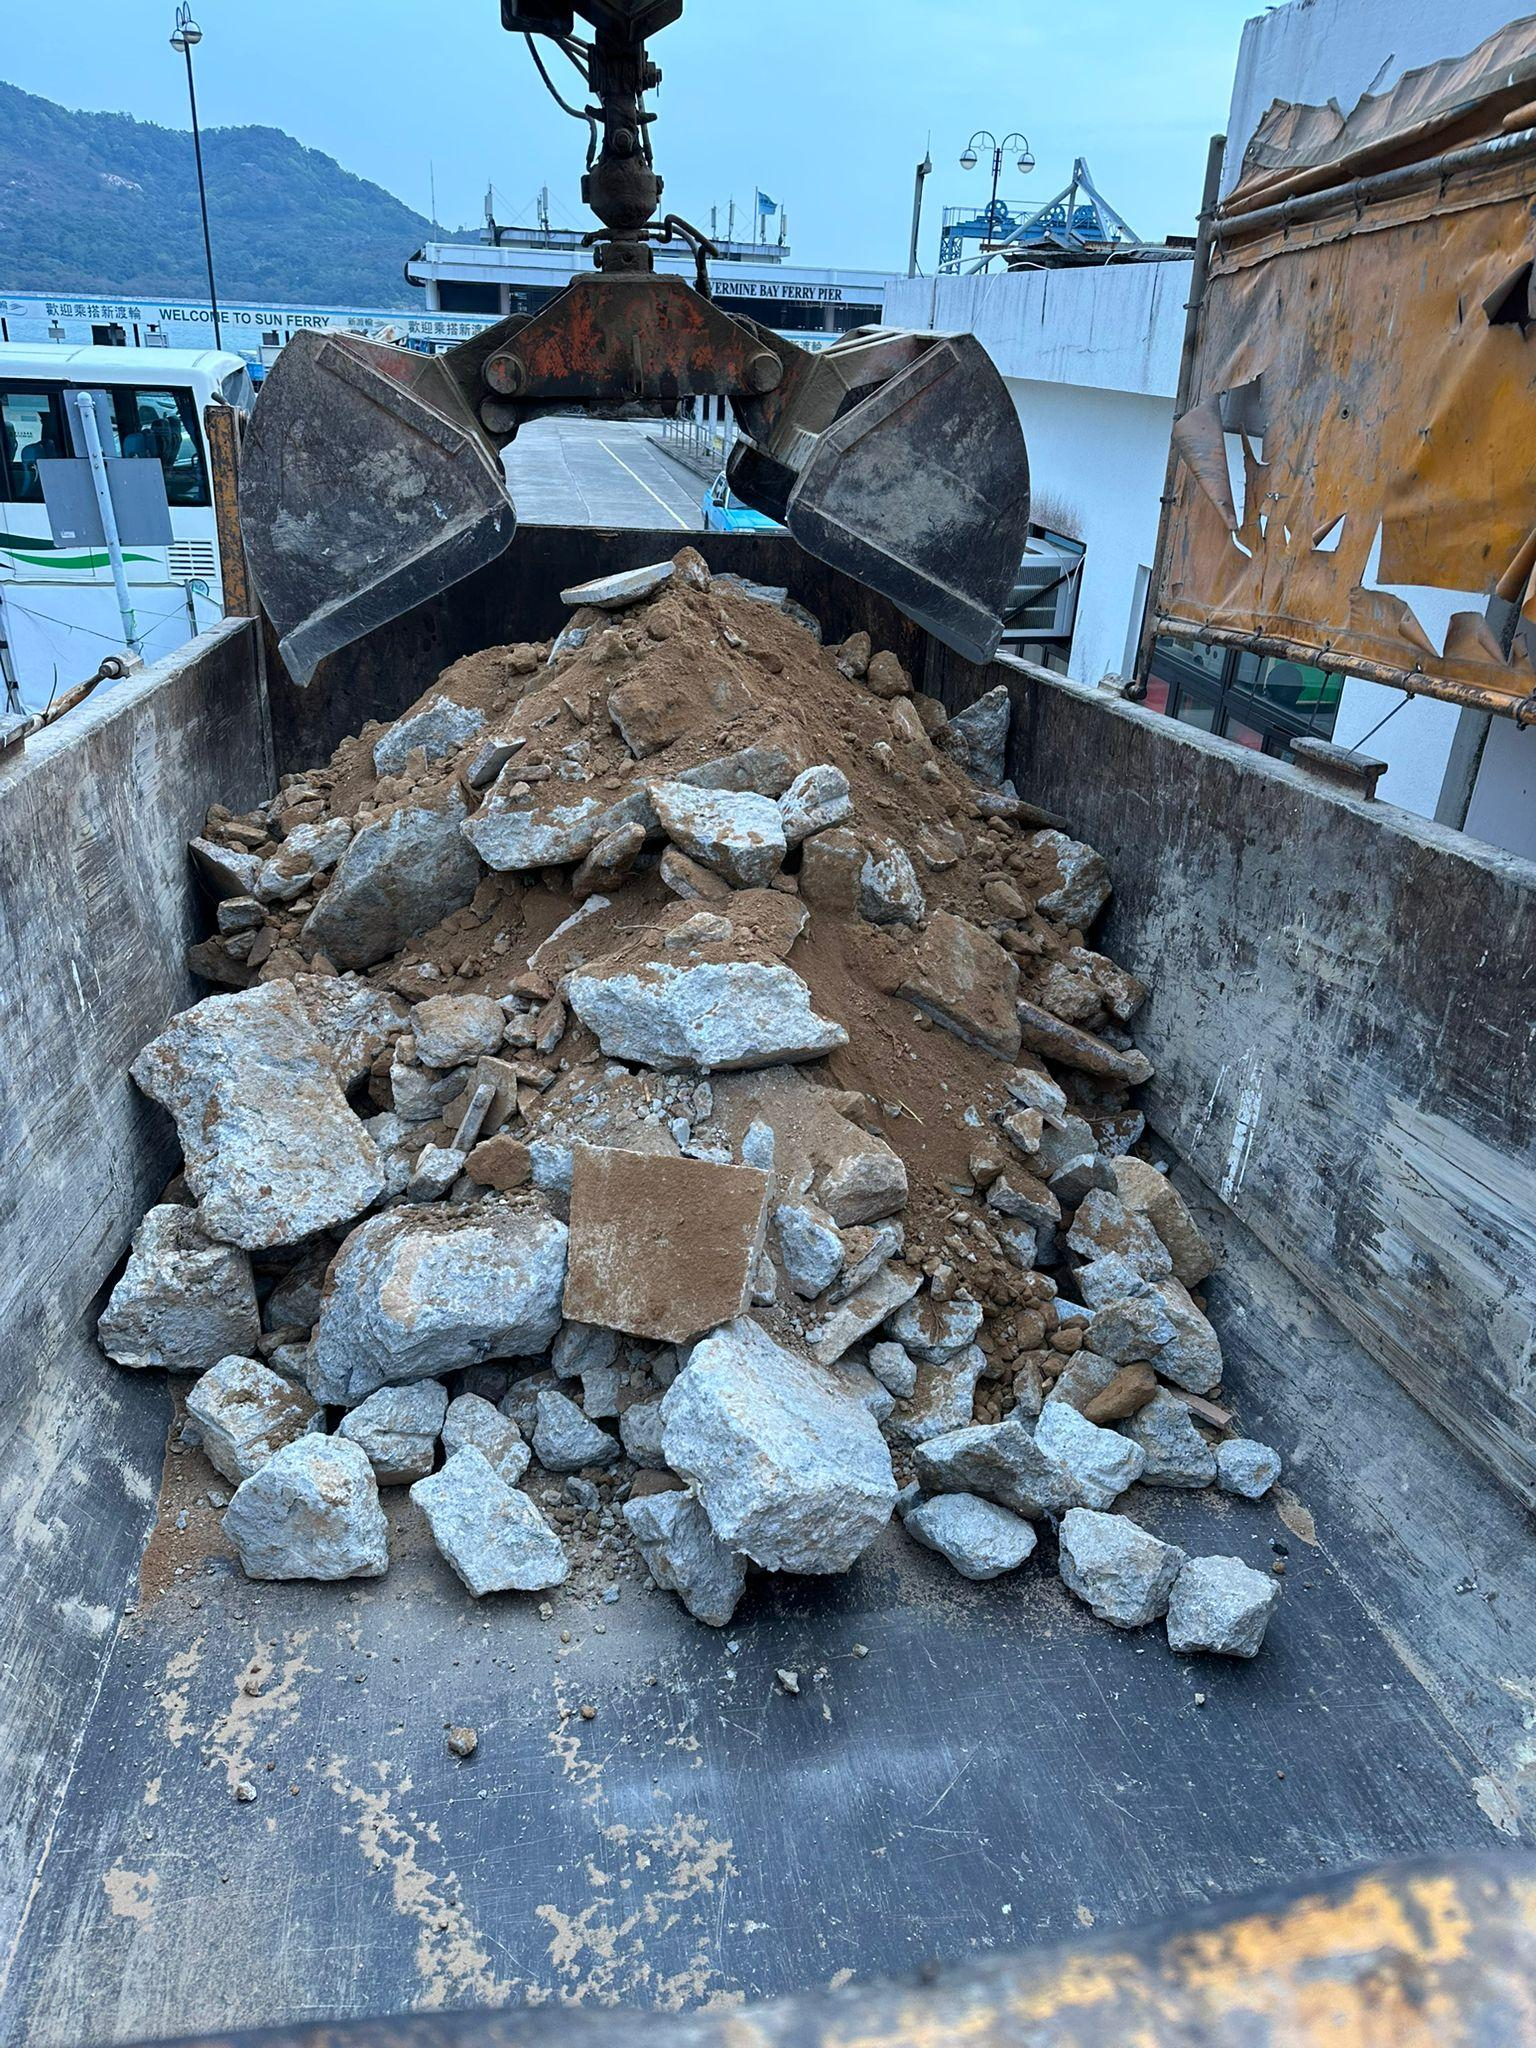dry: (100, 569, 1270, 1671)
